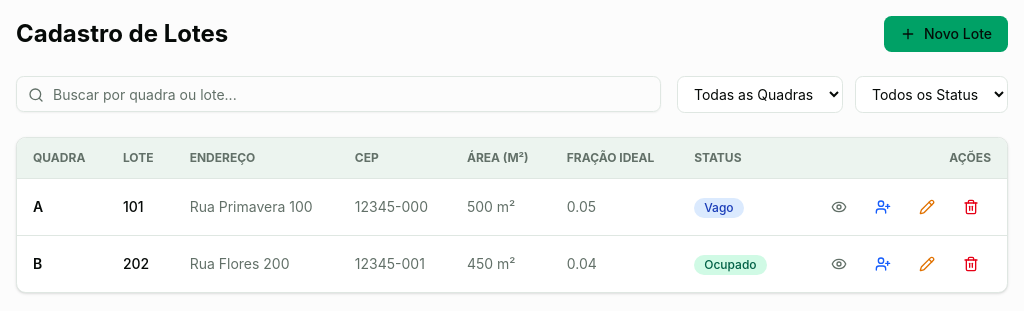
LotsPage › filters lots by search term
This screenshot has width=1024, height=311.
Expected: the text "101" is shown, 107,178 -> 174,236
Expected: the text "202" is shown, 107,236 -> 174,292
Type "Primavera" into the field with placeholder "Buscar por quadra ou lote..." at coordinates (338, 94), box 16,76 -> 661,112
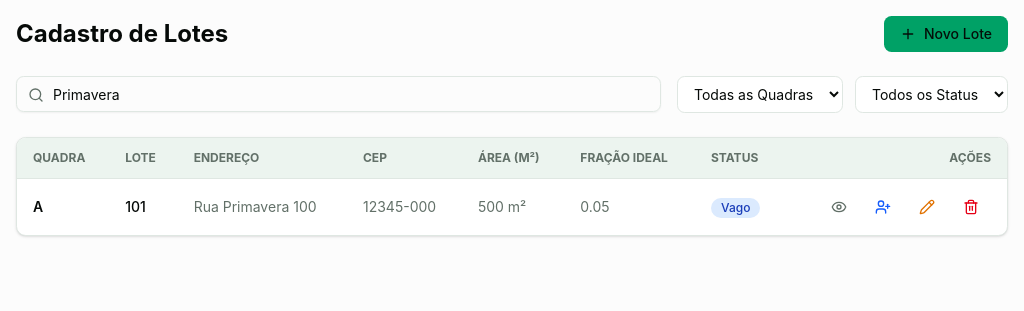
Expected: the text "101" is shown, 109,178 -> 178,235
Result: the text "202" is gone
